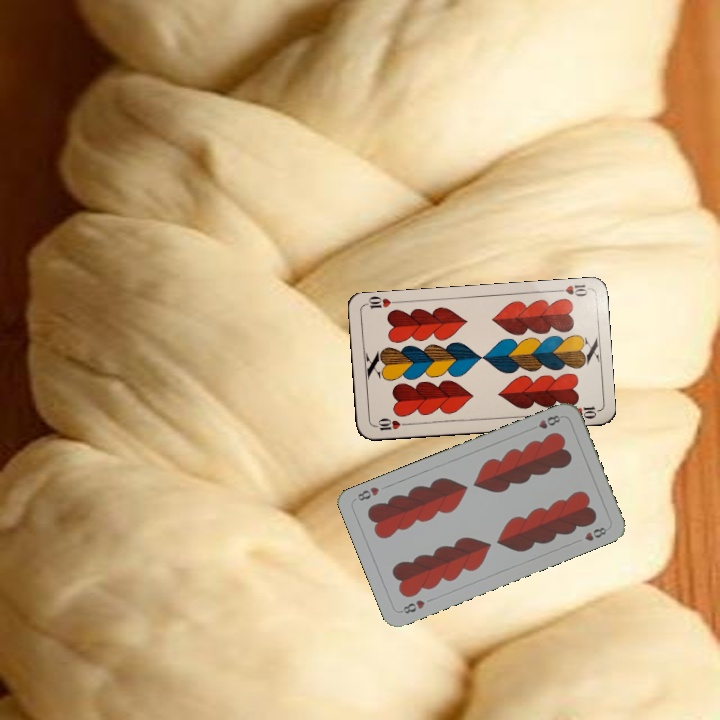H10: (550, 281, 591, 299), (371, 415, 411, 433)
H8: (396, 596, 427, 616), (534, 411, 563, 431)
